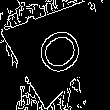O_NE: (30, 14, 91, 77)
